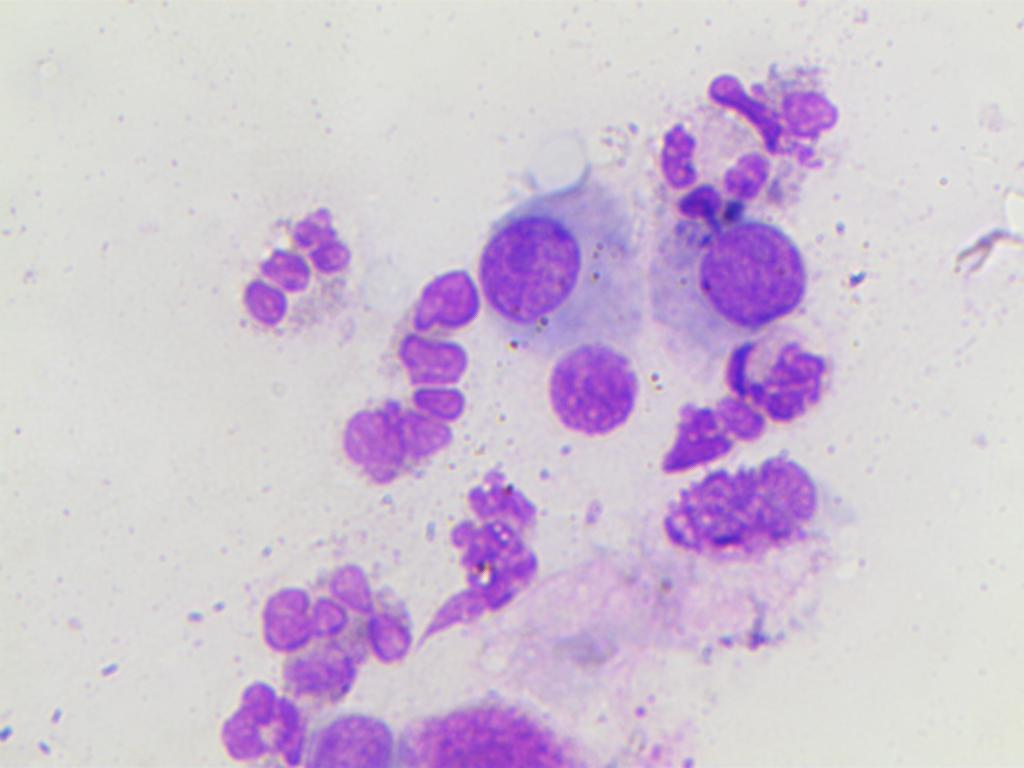artifact: (655, 457, 829, 573)
epithelial: (483, 184, 593, 358), (691, 202, 816, 337), (417, 684, 594, 768), (530, 339, 659, 433), (309, 697, 397, 768)
neutrophil: (333, 262, 494, 494), (621, 70, 836, 218), (239, 556, 418, 710), (414, 468, 544, 646), (654, 339, 839, 464), (241, 180, 360, 348), (216, 668, 303, 761)
